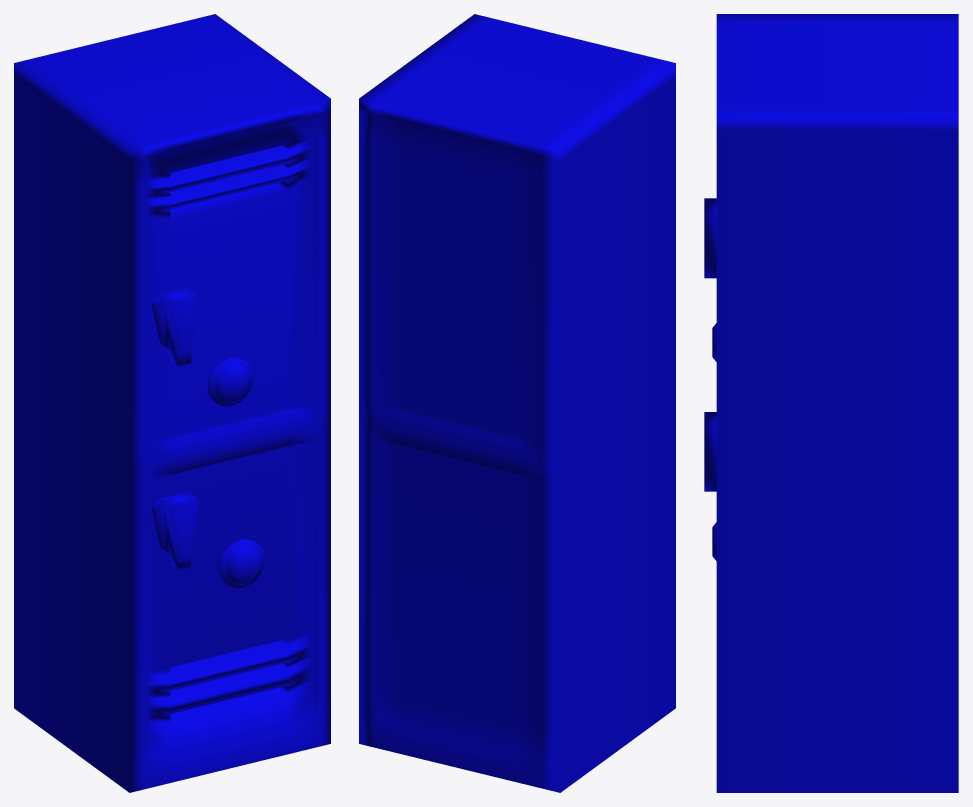
Rendered from Casier.fbx.
The picture shows the model from 3 angles, left to right: view 1: azimuth 30°, elevation 25°; view 2: azimuth 150°, elevation 25°; view 3: azimuth 270°, elevation 25°; orthographic projection. The views are drawn at different scales.
Visible parts, largest first — view 1: Casier1; view 2: Casier1; view 3: Casier1.
Part boxes in pixels (x1,y1,x2,y2): Casier1: [14, 14, 330, 792]; Casier1: [359, 14, 675, 792]; Casier1: [704, 14, 958, 792].
Bounding box in the file's own units: 10.33 × 31.65 × 10.8.
